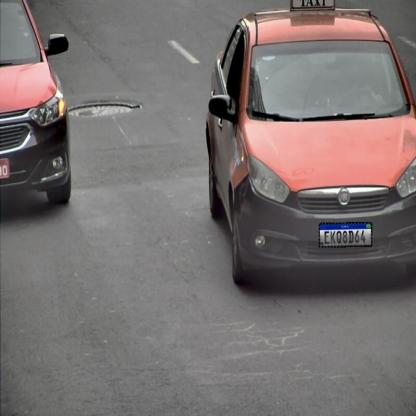PlacaM: (319, 222, 372, 247)
